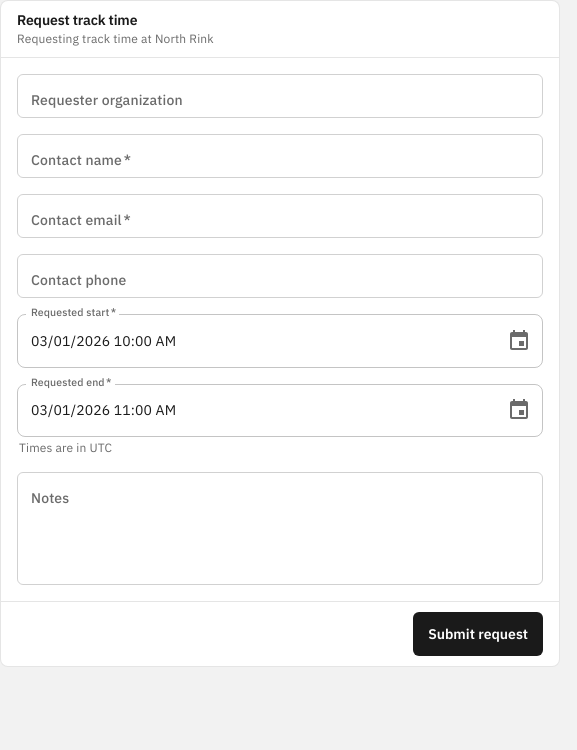
Test: track time request components › submits track time request details through the Server Action
Type "Sharks Hockey" into the field labelled "Requester organization" at x=280, y=96, box left=17, top=76, right=543, bottom=116
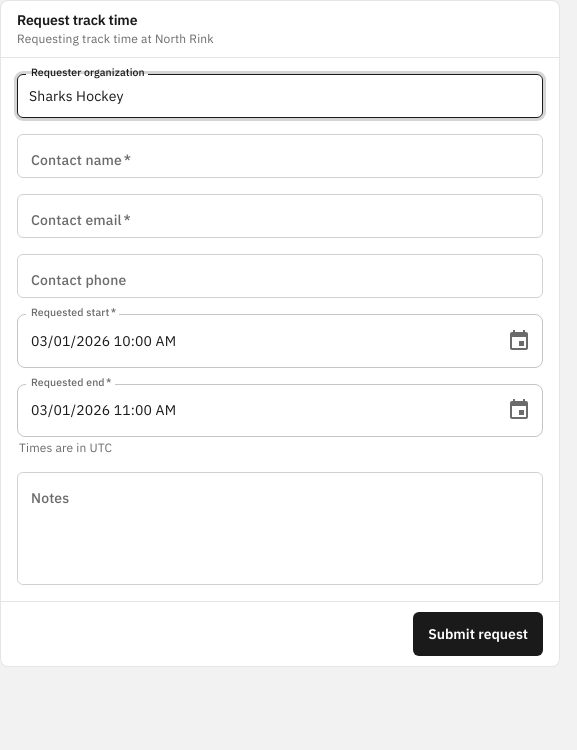
Type "Coach One" into the field labelled "Contact name *" at x=280, y=156, box left=17, top=136, right=543, bottom=176
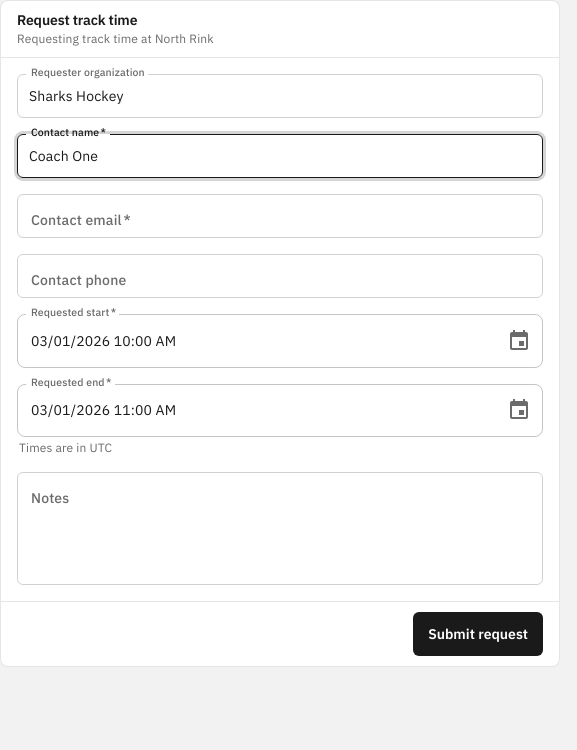
Type "coach@example.com" into the field labelled "Contact email *" at x=280, y=216, box left=17, top=196, right=543, bottom=236
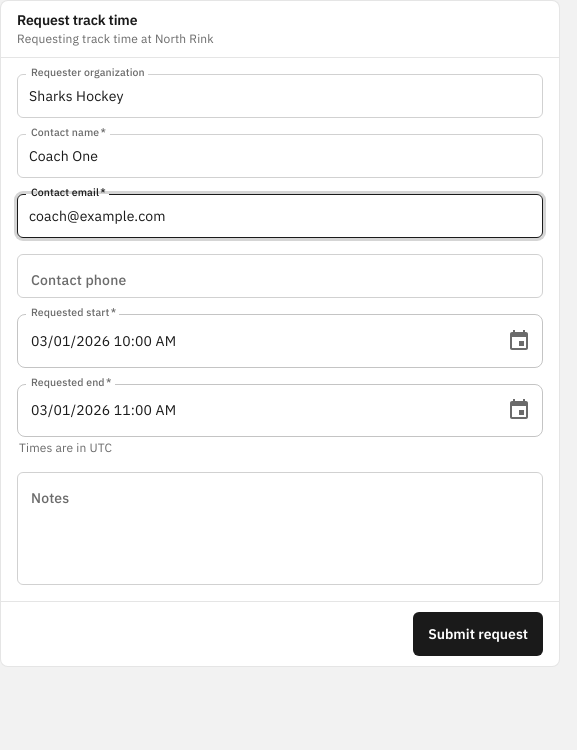
Type "Need a goalie net." into the text box labelled "Notes" at x=280, y=529, box left=31, top=489, right=529, bottom=569
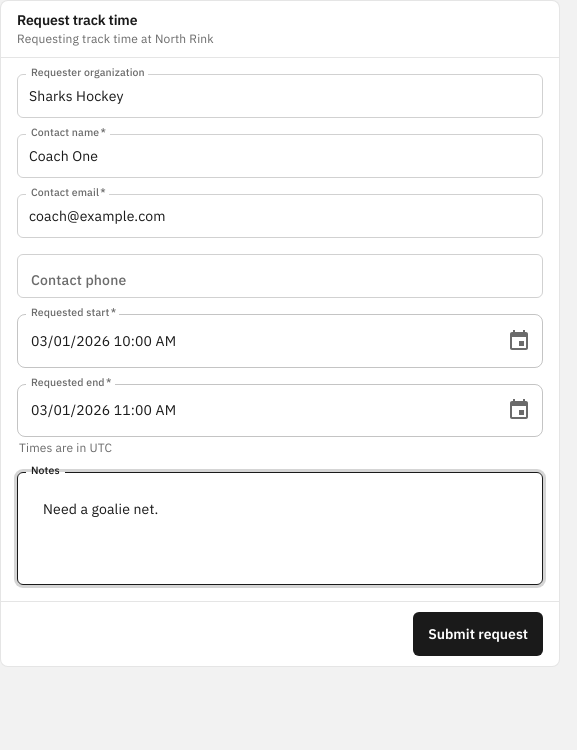
Click the button "Submit request" at x=478, y=634, box left=413, top=612, right=543, bottom=656
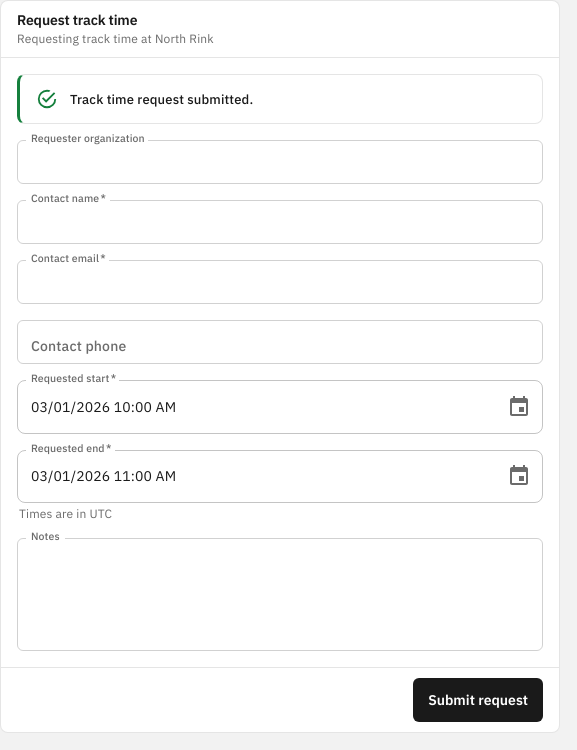
Expected: the text "Track time request submitted." is shown, left=70, top=91, right=253, bottom=108
